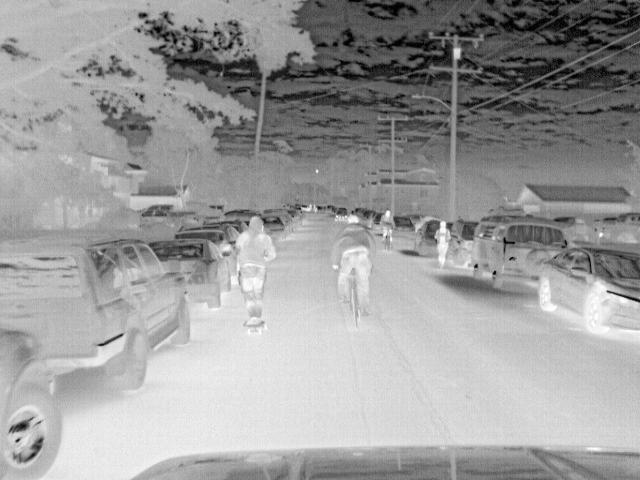car: (1, 235, 191, 387), (1, 324, 66, 479), (531, 249, 640, 338), (471, 217, 571, 289), (149, 238, 232, 308), (175, 229, 237, 279), (445, 221, 477, 267), (608, 213, 640, 246), (148, 204, 200, 224), (393, 214, 417, 248), (140, 207, 177, 225), (263, 214, 289, 239), (205, 207, 247, 221)
person: (232, 216, 278, 322), (330, 220, 373, 322), (436, 222, 452, 266), (379, 206, 394, 244)
